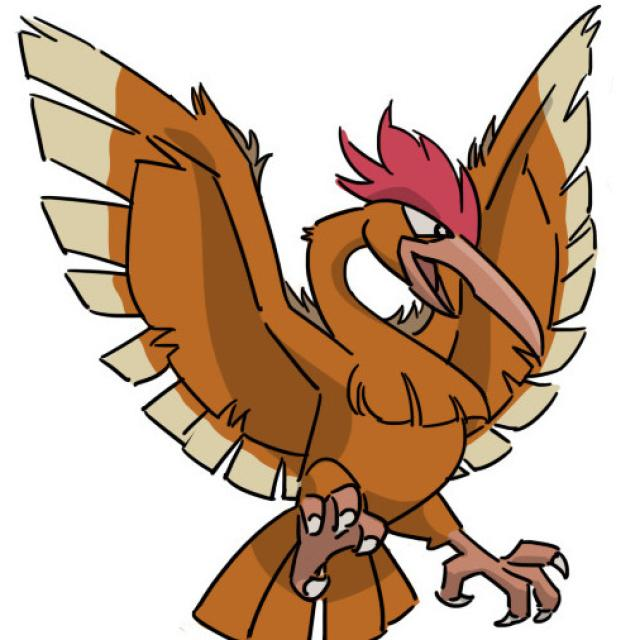Fearow: (111, 47, 603, 640)
